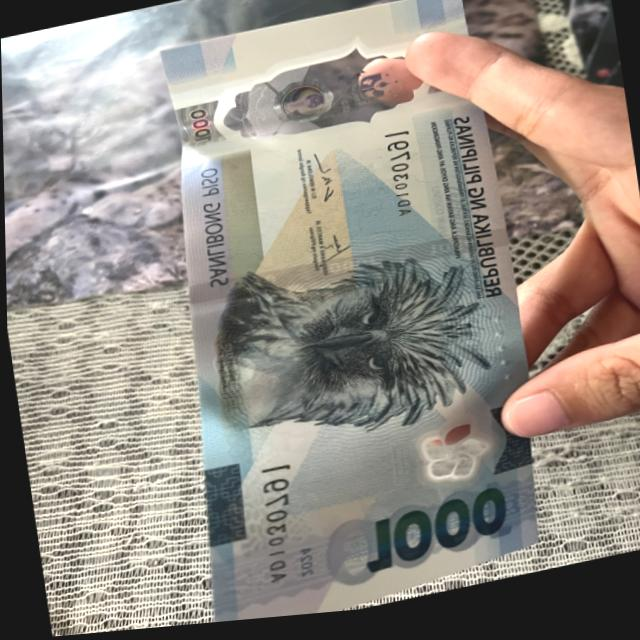clear_window: (205, 31, 436, 163)
eagle: (199, 230, 494, 450)
sampaguita: (359, 420, 501, 508)
security_thread: (186, 223, 503, 318)
serial_number: (233, 451, 321, 599), (367, 124, 431, 237)
value_watermark: (179, 95, 223, 160)
